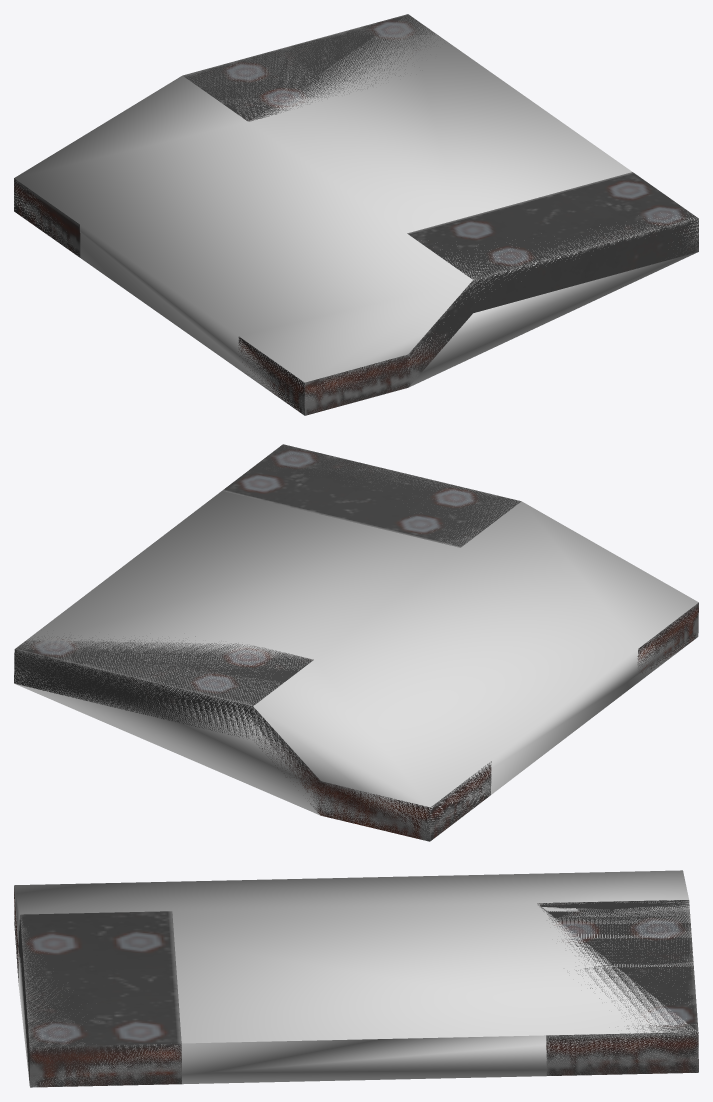
3 views of the same model, one above another, from view 1: azimuth 30°, elevation 25°; view 2: azimuth 150°, elevation 25°; view 3: azimuth 270°, elevation 25° (orthographic). The views are drawn at different scales.
Visible parts, largest first — view 1: weapon_machinegun_01_mount_col, weapon_machinegun_01_mount; view 2: weapon_machinegun_01_mount_col, weapon_machinegun_01_mount; view 3: weapon_machinegun_01_mount_col, weapon_machinegun_01_mount.
Part boxes in pixels (<box>): weapon_machinegun_01_mount_col: <box>14,15,698,414</box>; weapon_machinegun_01_mount: <box>14,14,698,415</box>; weapon_machinegun_01_mount_col: <box>14,444,698,841</box>; weapon_machinegun_01_mount: <box>14,444,698,841</box>; weapon_machinegun_01_mount_col: <box>14,870,698,1087</box>; weapon_machinegun_01_mount: <box>14,888,698,1087</box>.
Size of the model in its own units: 0.2229 by 0.0517 by 0.2637.
Materials: 1 (1 with a texture image).
